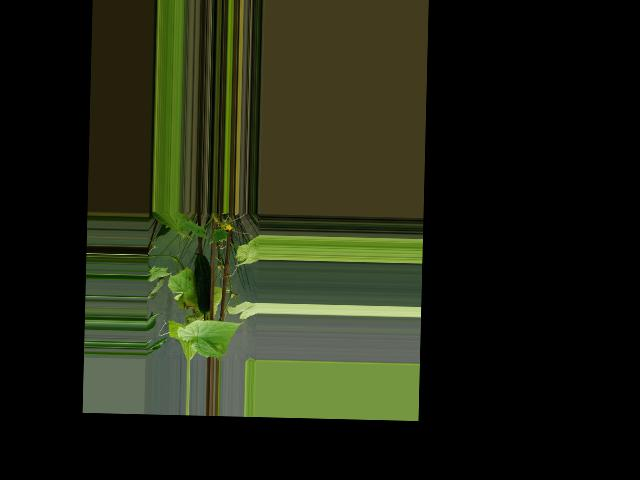cucumber: (193, 253, 211, 313)
